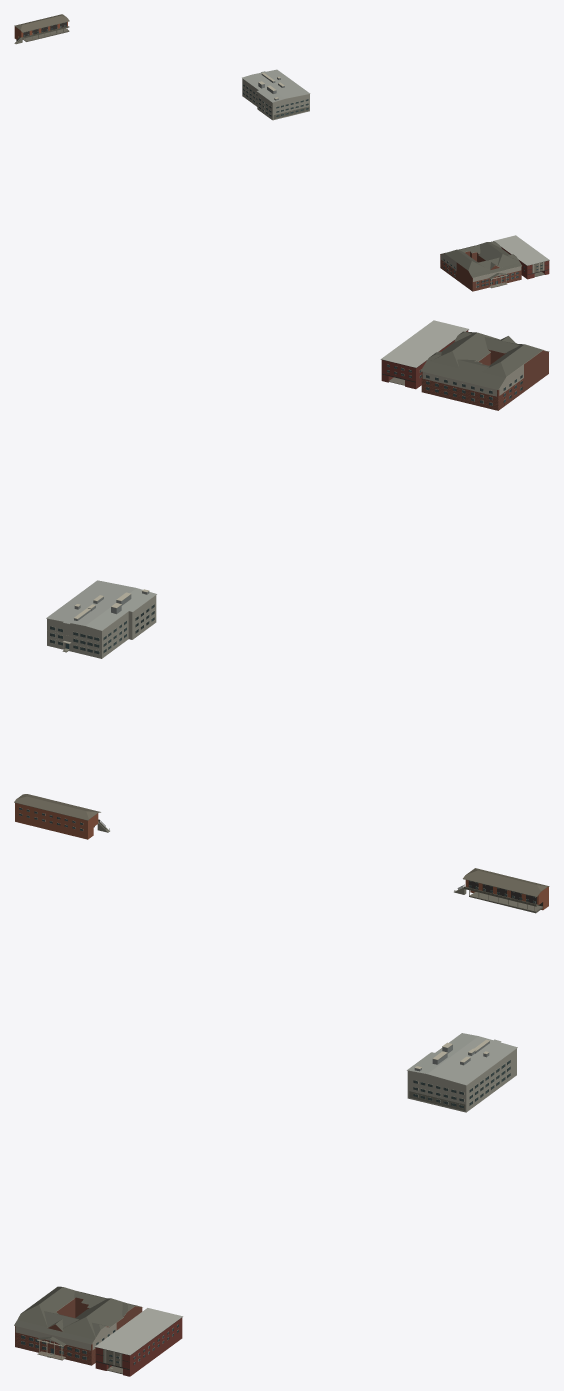
File: site.glb
3 renders of one model, top to bottom at view 1: azimuth 30°, elevation 25°; view 2: azimuth 150°, elevation 25°; view 3: azimuth 330°, elevation 25°, orthographic. The views are drawn at different scales.
Parts seen in each view (by area): view 1: roof-ca59da4d, roof-ae986c58, roof-dcc94271, roof-a3d5625f; view 2: roof-ca59da4d, roof-ae986c58, roof-dcc94271, roof-a3d5625f; view 3: roof-ca59da4d, roof-ae986c58, roof-dcc94271, roof-a3d5625f.
Part boxes in pixels (left/top/right/bottom): roof-ca59da4d: left=440, top=241, right=521, bottom=291; roof-ae986c58: left=242, top=69, right=310, bottom=120; roof-dcc94271: left=493, top=235, right=549, bottom=279; roof-a3d5625f: left=14, top=14, right=69, bottom=43; roof-ca59da4d: left=421, top=331, right=549, bottom=410; roof-ae986c58: left=46, top=580, right=156, bottom=658; roof-dcc94271: left=380, top=320, right=468, bottom=389; roof-a3d5625f: left=14, top=794, right=109, bottom=839; roof-ca59da4d: left=14, top=1286, right=142, bottom=1365; roof-ae986c58: left=407, top=1033, right=517, bottom=1112; roof-dcc94271: left=95, top=1308, right=182, bottom=1376; roof-a3d5625f: left=454, top=868, right=549, bottom=913.
Size of the model in its own units: 124 by 18.2 by 495.
